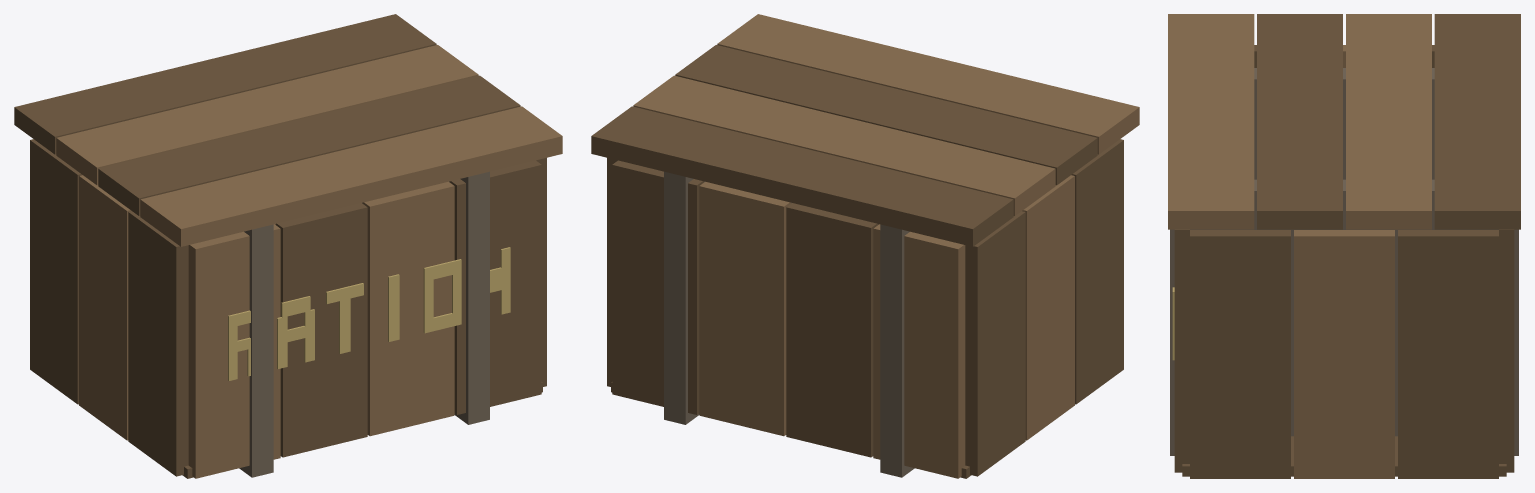
Rendered from rations_crate.glb.
3 views of the same model, side by side, from view 1: azimuth 30°, elevation 25°; view 2: azimuth 150°, elevation 25°; view 3: azimuth 270°, elevation 25° (orthographic). The views are drawn at different scales.
Visible parts, largest first — view 1: RatLid_0, RatSlat_f_2, RatSlat_f_1, RatLid_2, RatLid_1, RatLid_3, RatSlat_f_0, RatSide_l_0, RatSlat_f_3, RatSide_l_1, RatSide_l_2, RatStrap_0 (+6 smaller); view 2: RatLid_3, RatSlat_b_2, RatSlat_b_1, RatLid_1, RatLid_0, RatLid_2, RatSlat_b_0, RatSlat_b_3, RatSide_l_2, RatSide_l_1, RatSide_l_0, RatStrap_0 (+2 smaller); view 3: RatSide_r_0, RatSide_r_1, RatSide_r_2, RatLid_0, RatLid_3, RatLid_1, RatLid_2, RatStrap_1, RatSlat_b_3, RatSlat_f_3, RatStrap_0, RatFloor.
Boxes of the visible parts, left/top/right/bottom form: RatLid_0: left=140, top=106, right=562, bottom=246; RatSlat_f_2: left=362, top=181, right=454, bottom=436; RatSlat_f_1: left=275, top=203, right=367, bottom=457; RatLid_2: left=56, top=45, right=478, bottom=185; RatLid_1: left=98, top=75, right=520, bottom=215; RatLid_3: left=14, top=14, right=436, bottom=154; RatSlat_f_0: left=188, top=224, right=280, bottom=478; RatSide_l_0: left=128, top=211, right=188, bottom=476; RatSlat_f_3: left=450, top=160, right=541, bottom=414; RatSide_l_1: left=79, top=175, right=131, bottom=440; RatSide_l_2: left=30, top=139, right=82, bottom=404; RatStrap_0: left=239, top=224, right=273, bottom=477; RatLid_3: left=591, top=106, right=1013, bottom=246; RatSlat_b_2: left=699, top=181, right=791, bottom=436; RatSlat_b_1: left=786, top=203, right=878, bottom=457; RatLid_1: left=675, top=45, right=1097, bottom=185; RatLid_0: left=717, top=14, right=1139, bottom=154; RatLid_2: left=633, top=75, right=1055, bottom=215; RatSlat_b_0: left=873, top=224, right=965, bottom=478; RatSlat_b_3: left=612, top=160, right=703, bottom=414; RatSide_l_2: left=965, top=211, right=1025, bottom=476; RatSide_l_1: left=1022, top=175, right=1074, bottom=440; RatSide_l_0: left=1071, top=139, right=1123, bottom=404; RatStrap_0: left=880, top=224, right=914, bottom=477; RatSide_r_0: left=1190, top=230, right=1290, bottom=478; RatSide_r_1: left=1294, top=230, right=1394, bottom=478; RatSide_r_2: left=1398, top=230, right=1498, bottom=478; RatLid_0: left=1168, top=14, right=1254, bottom=229; RatLid_3: left=1434, top=14, right=1520, bottom=229; RatLid_1: left=1257, top=14, right=1342, bottom=229; RatLid_2: left=1346, top=14, right=1431, bottom=229; RatStrap_1: left=1170, top=179, right=1518, bottom=455; RatSlat_b_3: left=1499, top=229, right=1514, bottom=472; RatSlat_f_3: left=1174, top=229, right=1189, bottom=472; RatStrap_0: left=1254, top=68, right=1434, bottom=179; RatFloor: left=1182, top=436, right=1506, bottom=476.
Size of the model in its own units: 0.494 by 0.33 by 0.374.
